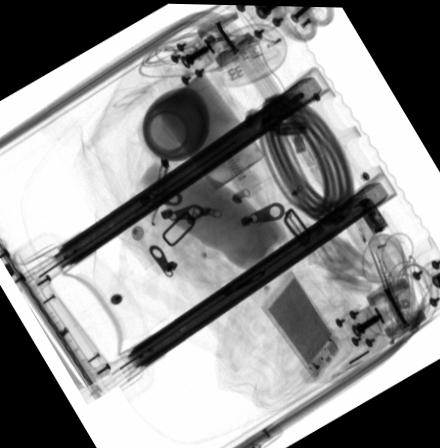Powerbank: (260, 269, 344, 380)
